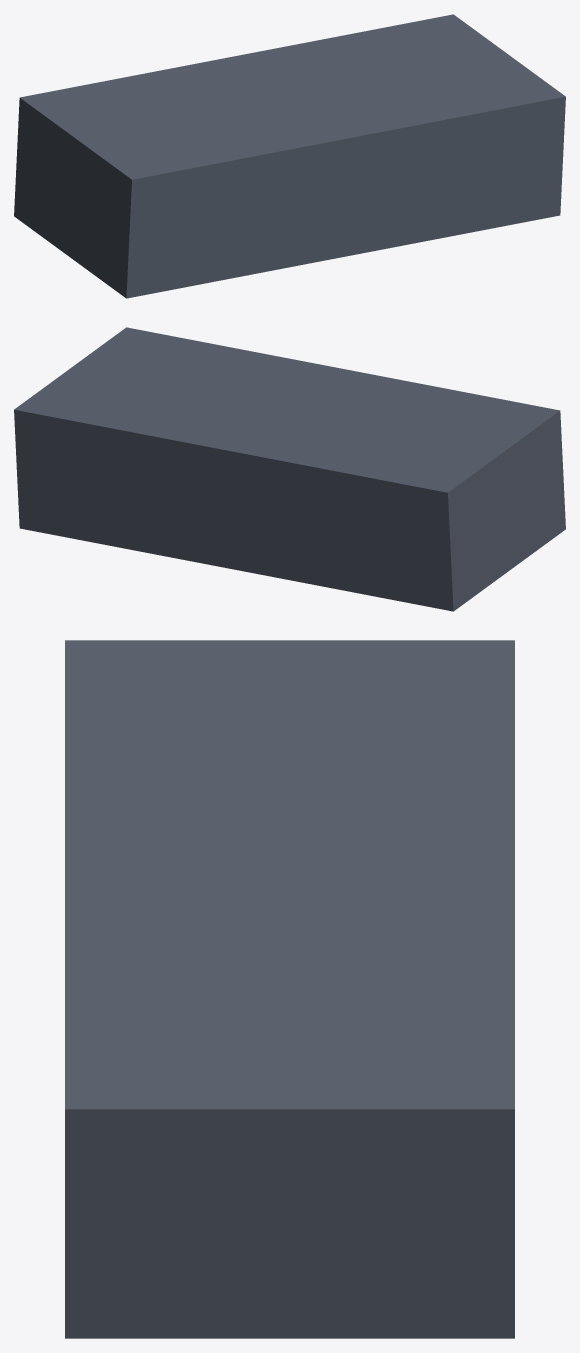
Rendered from EXT_Viaduct_TopRight.glb.
3 renders of one model, top to bottom at view 1: azimuth 30°, elevation 25°; view 2: azimuth 150°, elevation 25°; view 3: azimuth 270°, elevation 25°, orthographic. The views are drawn at different scales.
Visible parts, largest first — view 1: EXT_Viaduct_TopRight; view 2: EXT_Viaduct_TopRight; view 3: EXT_Viaduct_TopRight.
Part boxes in pixels (x1,y1,x2,y2): EXT_Viaduct_TopRight: (14,14,565,298); EXT_Viaduct_TopRight: (14,327,565,611); EXT_Viaduct_TopRight: (65,640,514,1338).
Size of the model in its own units: 2.93 by 0.894 by 1.3.
